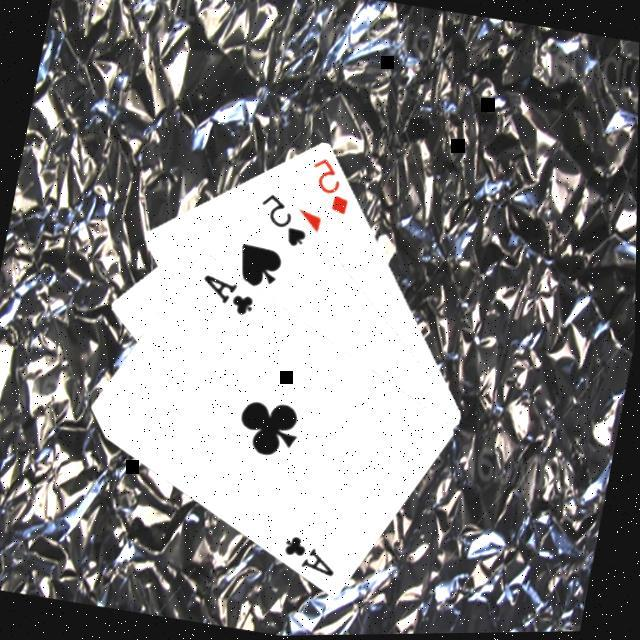5D: (300, 154, 358, 221)
5S: (250, 190, 316, 253)
AC: (192, 270, 260, 322), (276, 531, 343, 583)
